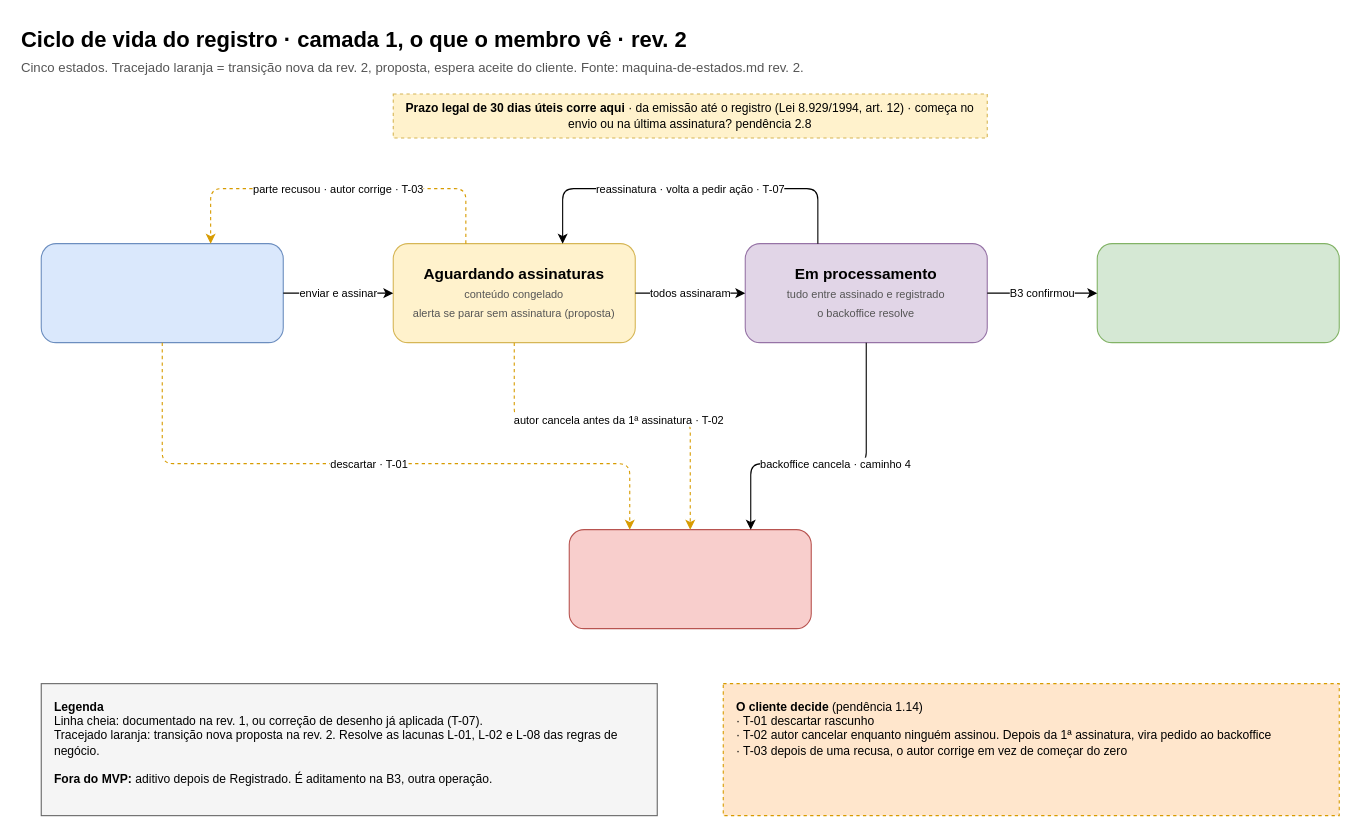
Some shapes in this 1359 by 835 pixel diagram are drawn without their labels. The centre of each missing label's shape, as x and y in pixels:
"Cancelado terminal · motivo obrigatório · nunca apagado" belongs at pixel 689 579.
"Rascunho só o autor vê · edita tudo" belongs at pixel 161 293.
"Registrado terminal · nada muda" belongs at pixel 1217 293.
